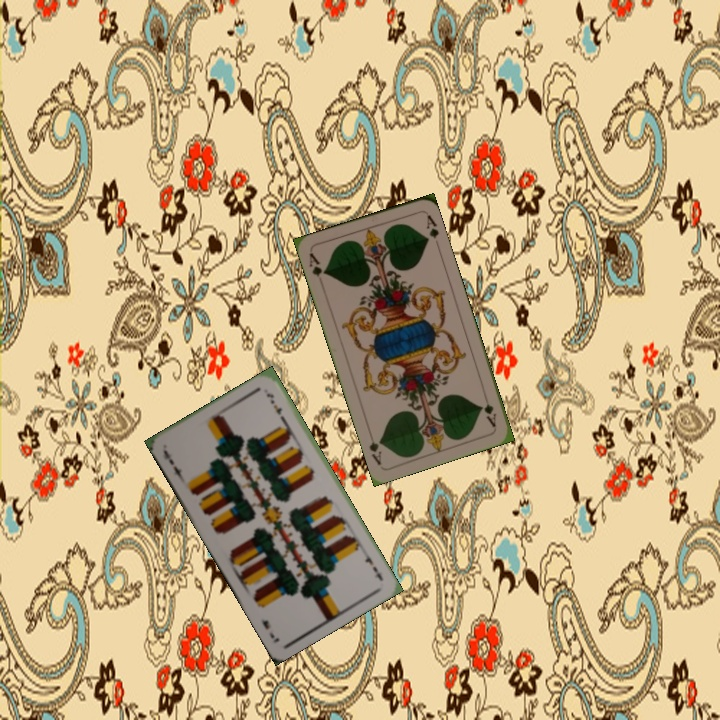E7: (159, 446, 186, 483), (359, 547, 386, 583)
GA: (305, 249, 329, 279), (478, 400, 499, 430)
